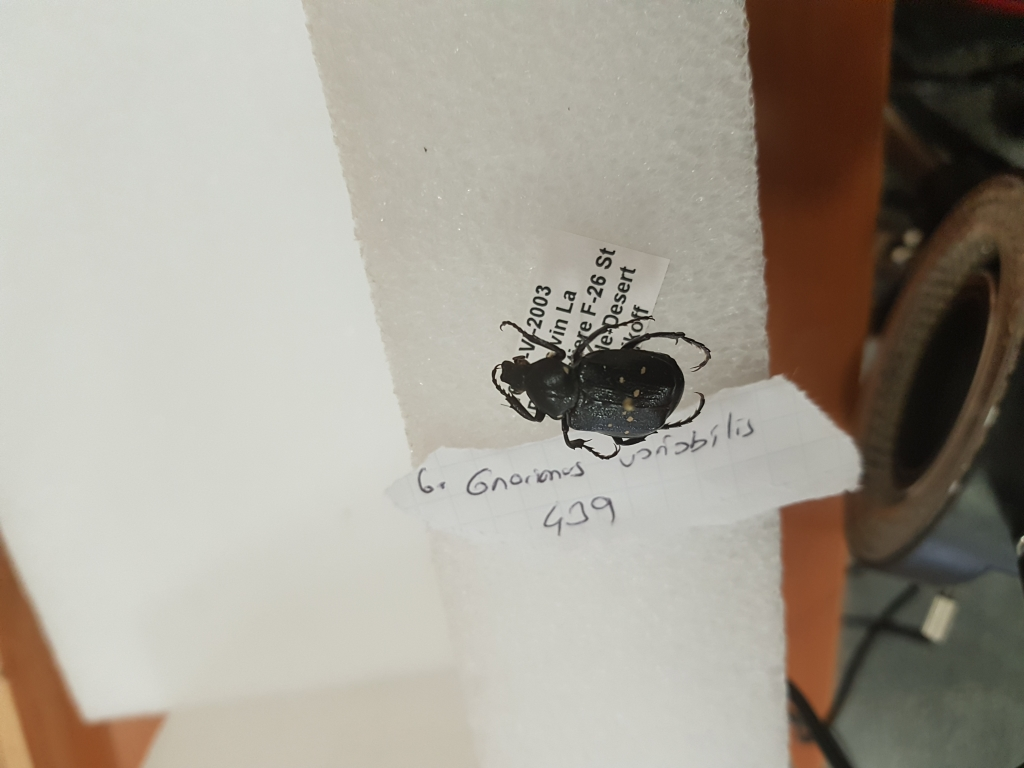Gnorimus_variabilis: (479, 313, 727, 461)
